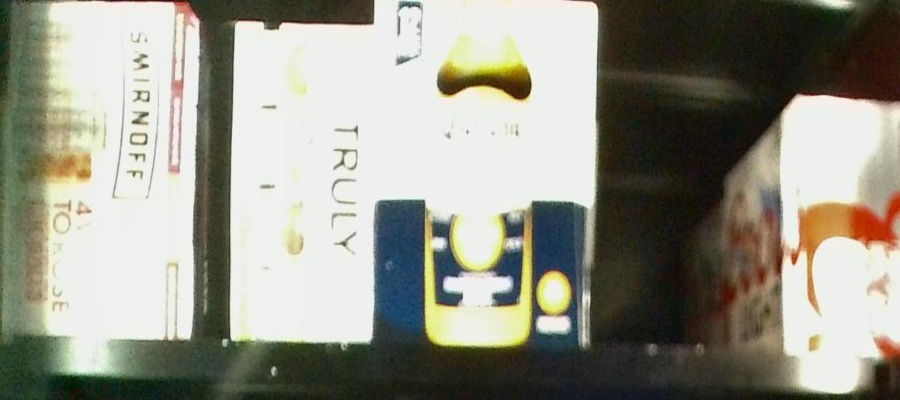bottle: (377, 1, 593, 345), (3, 1, 203, 336), (231, 18, 376, 338), (775, 92, 900, 354)
